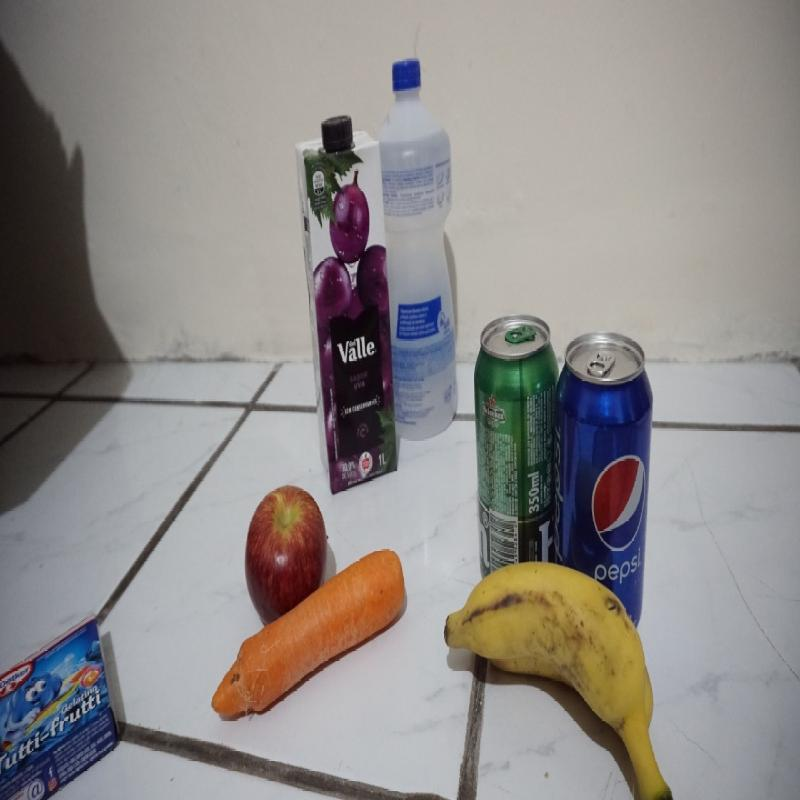Alcohol Bottle: (372, 57, 461, 442)
Apple: (244, 485, 330, 632)
Banana: (445, 559, 670, 798)
Beer can: (472, 315, 558, 586)
Carrot: (209, 548, 407, 722)
Gelatine: (1, 616, 122, 798)
Soda can: (555, 325, 654, 638)
